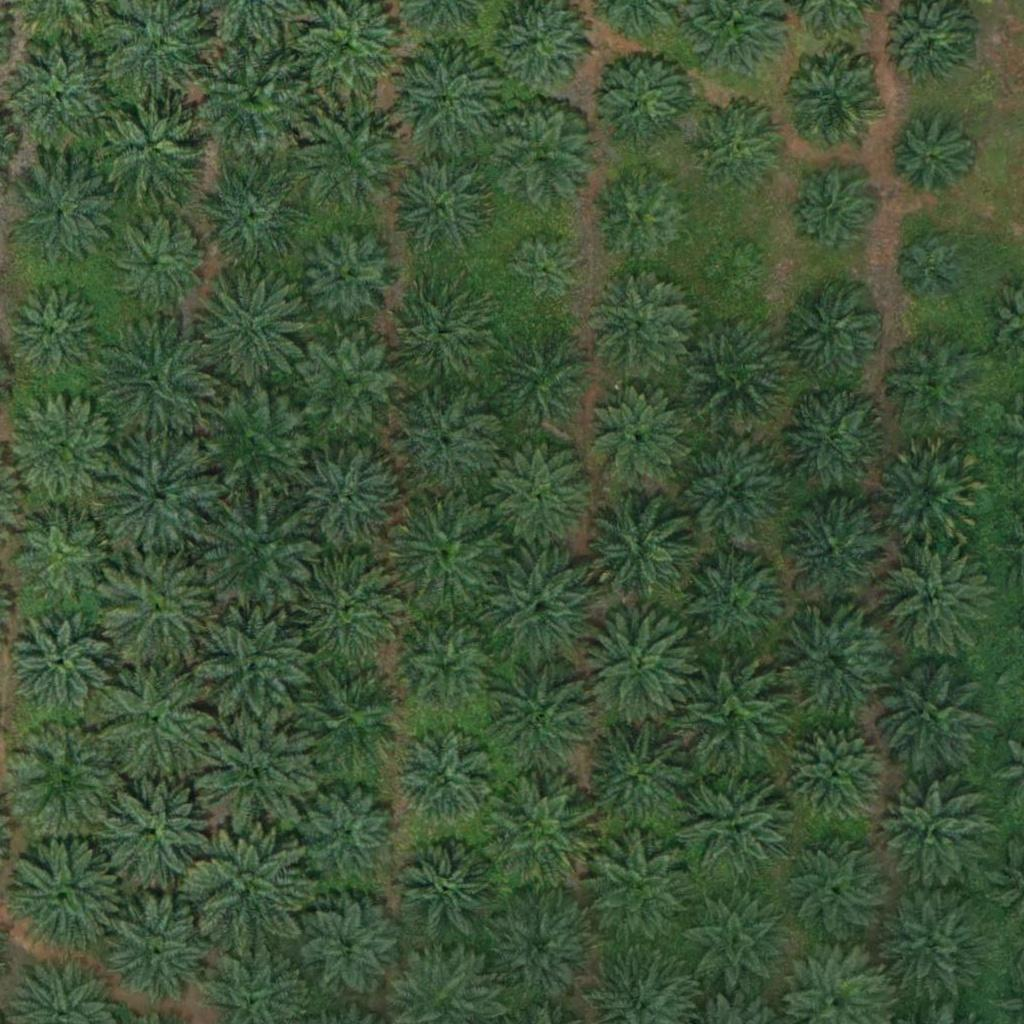Kelapa_Sawit: (194, 381, 307, 495), (100, 317, 213, 431), (6, 161, 119, 275), (201, 491, 314, 605), (486, 657, 599, 771), (584, 833, 697, 947), (677, 888, 790, 1002), (873, 437, 986, 550), (776, 278, 889, 391), (392, 46, 505, 159), (95, 90, 208, 203), (100, 439, 213, 552), (4, 42, 117, 155), (10, 836, 123, 949), (101, 552, 214, 665), (196, 611, 309, 724), (198, 717, 311, 830), (192, 832, 305, 945), (390, 490, 503, 603), (487, 550, 600, 663), (581, 611, 694, 724), (583, 720, 696, 833), (877, 541, 990, 654), (872, 658, 985, 771), (876, 780, 989, 893), (289, 442, 401, 556), (297, 550, 409, 664), (487, 782, 599, 896), (777, 386, 889, 499), (678, 315, 790, 428), (676, 437, 788, 550), (388, 387, 500, 500), (295, 103, 407, 216), (198, 43, 310, 156), (194, 155, 306, 268), (196, 267, 308, 380), (7, 394, 119, 507), (9, 722, 121, 835), (103, 664, 215, 777), (101, 770, 213, 883), (294, 665, 406, 778), (483, 891, 595, 1004), (584, 491, 696, 604), (674, 544, 786, 657), (673, 660, 785, 773), (681, 774, 793, 887), (776, 607, 888, 720), (780, 831, 892, 944), (879, 888, 991, 1001), (105, 894, 217, 1007), (881, 334, 981, 435), (692, 97, 792, 198), (590, 46, 690, 147), (594, 165, 694, 266), (586, 273, 686, 374), (586, 384, 686, 485), (491, 103, 591, 204), (493, 329, 593, 430), (491, 445, 591, 546), (391, 152, 491, 253), (388, 285, 488, 386), (301, 229, 401, 330), (301, 332, 401, 433), (12, 499, 112, 600), (8, 610, 108, 711), (298, 782, 398, 883), (300, 901, 400, 1002), (400, 843, 500, 944), (782, 499, 882, 600), (785, 722, 885, 823), (782, 52, 882, 152), (105, 211, 205, 311), (3, 280, 103, 380), (395, 730, 495, 830), (886, 116, 974, 204), (401, 627, 489, 715), (788, 168, 875, 256), (504, 235, 579, 310), (899, 236, 962, 299), (701, 239, 763, 302)
